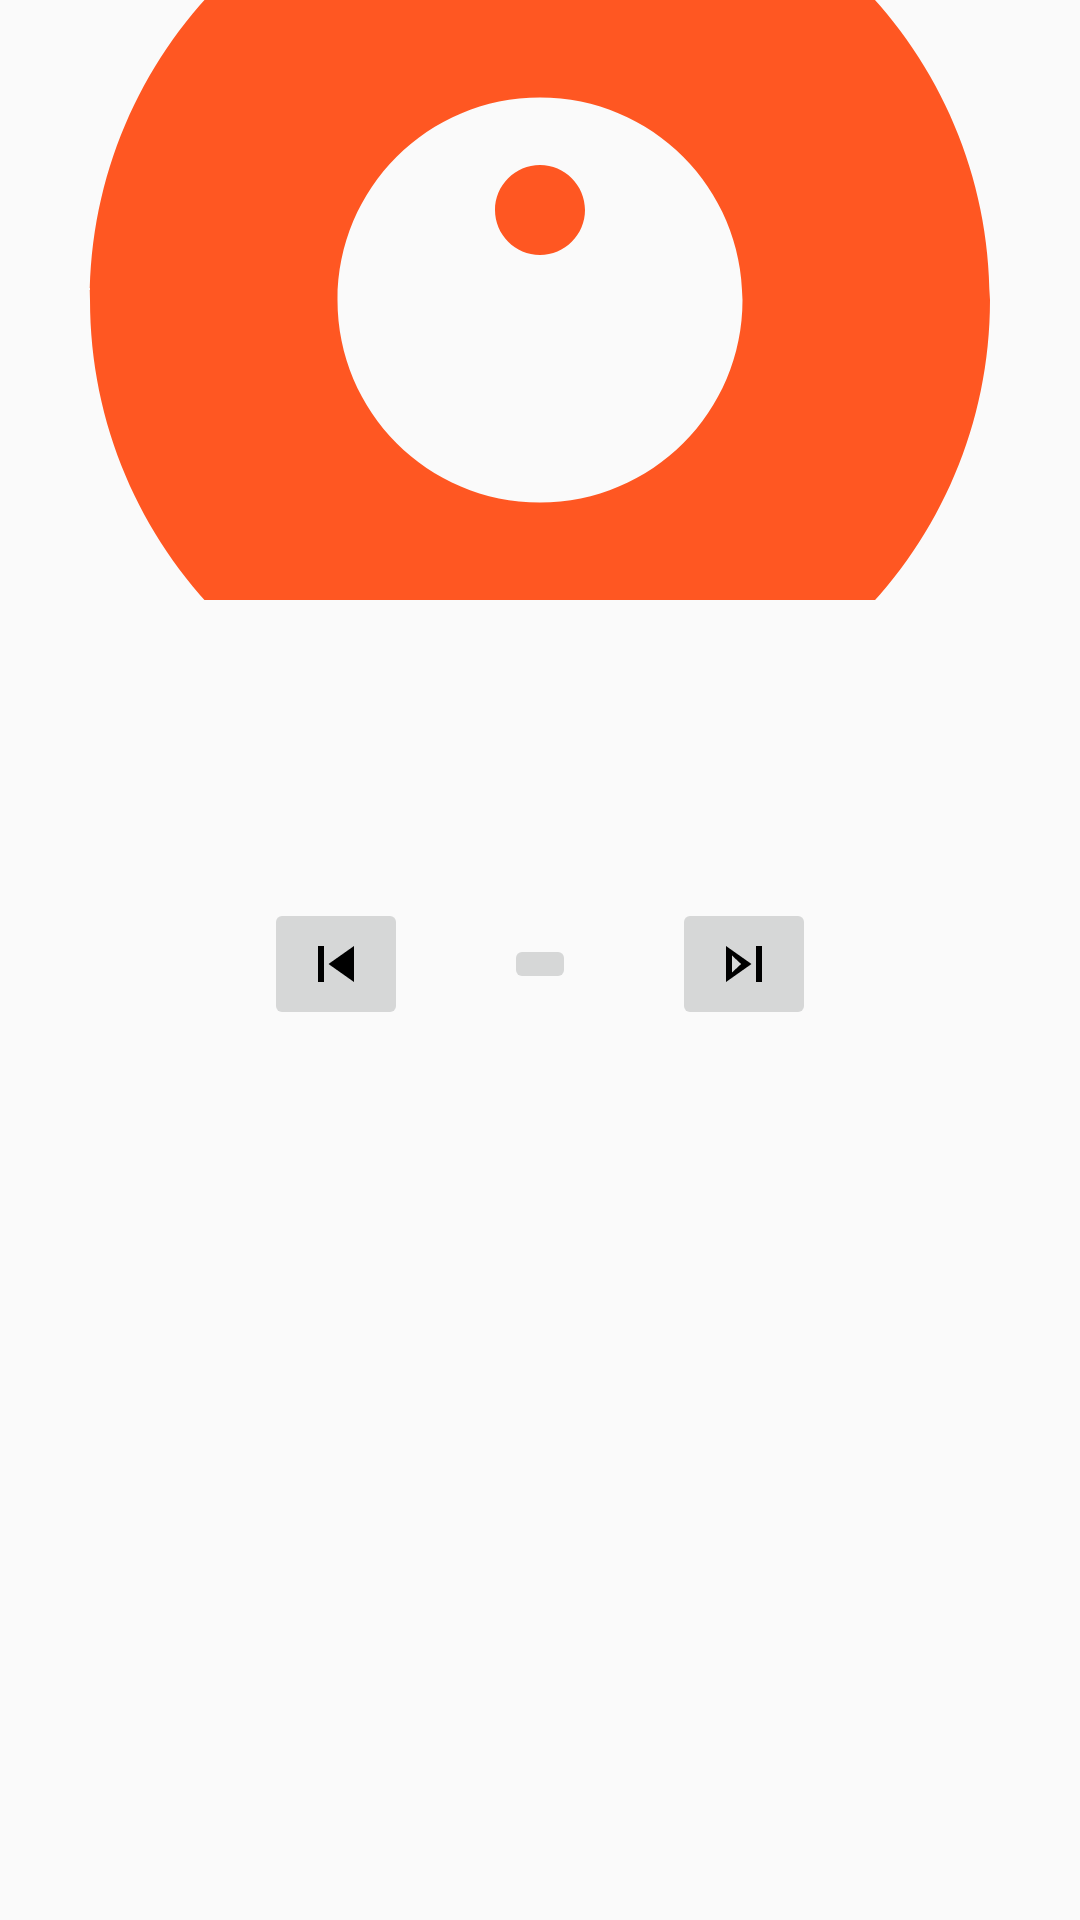

Icons on this 1080×1920 Android screen, each with its box as (x1, y1, x2, y2):
next: (684, 916, 804, 1012)
prev: (276, 916, 396, 1012)
